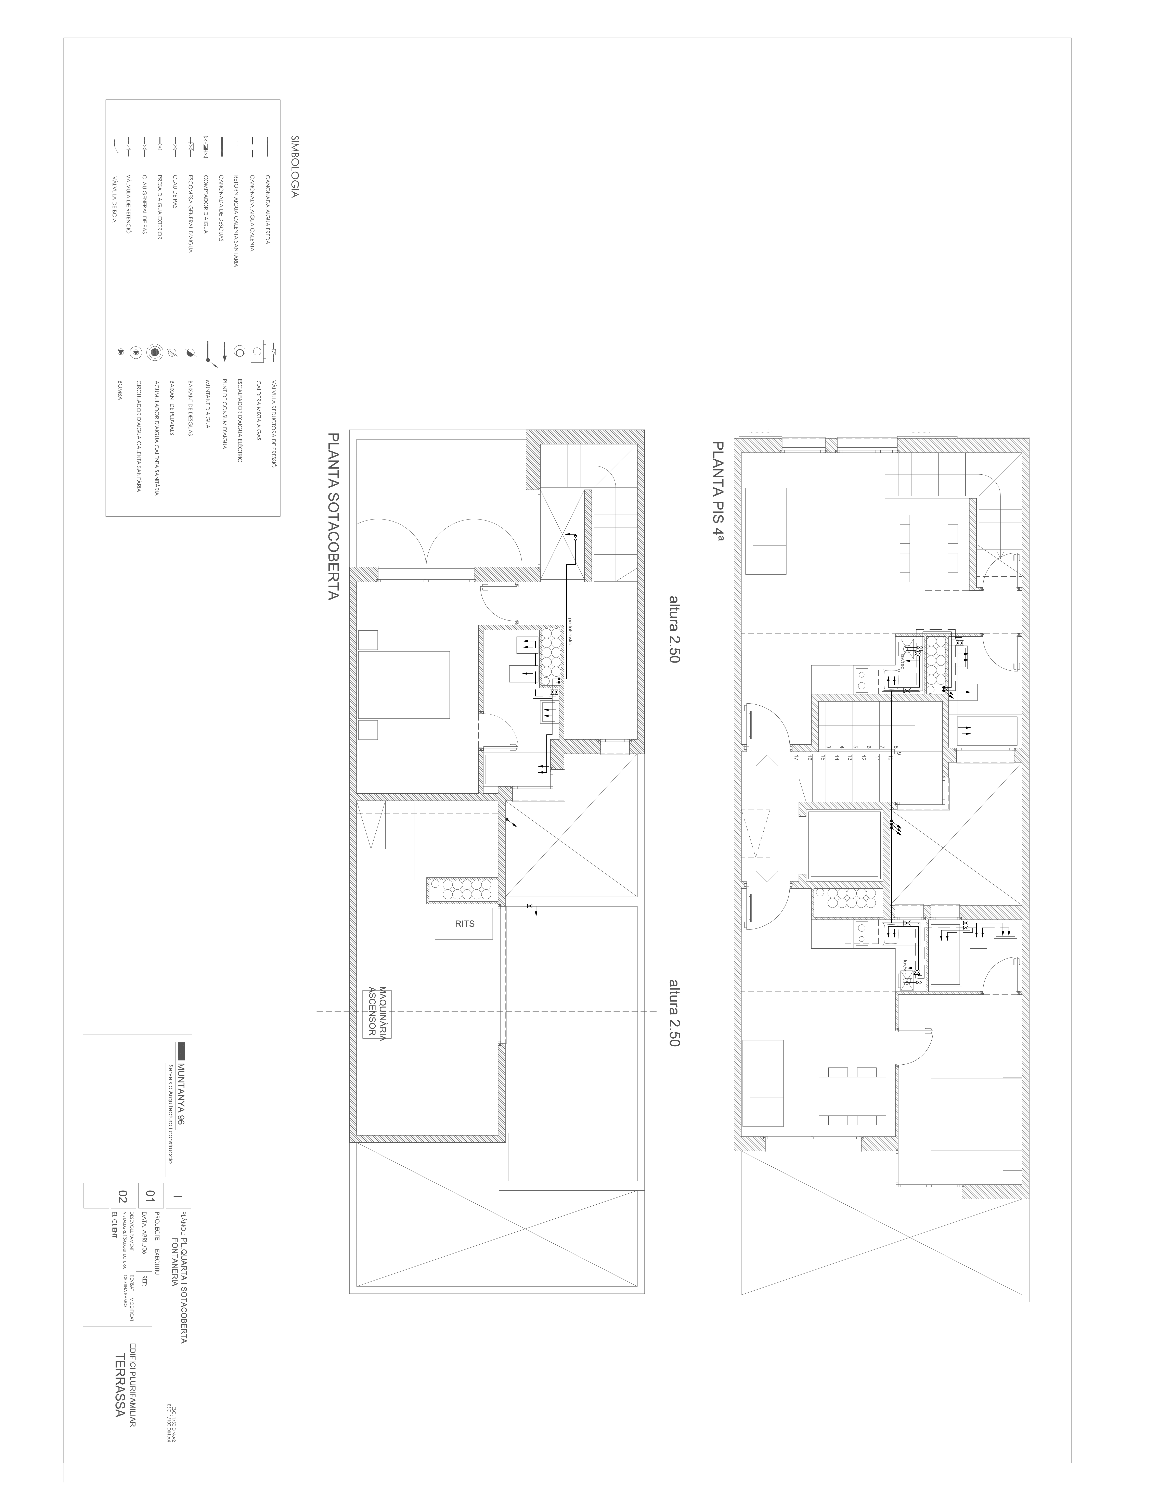door: (744, 703, 793, 750), (744, 885, 791, 930), (479, 582, 520, 624), (980, 631, 1020, 673), (980, 957, 1023, 996), (979, 553, 1020, 592), (894, 1027, 933, 1067), (480, 711, 518, 751)
